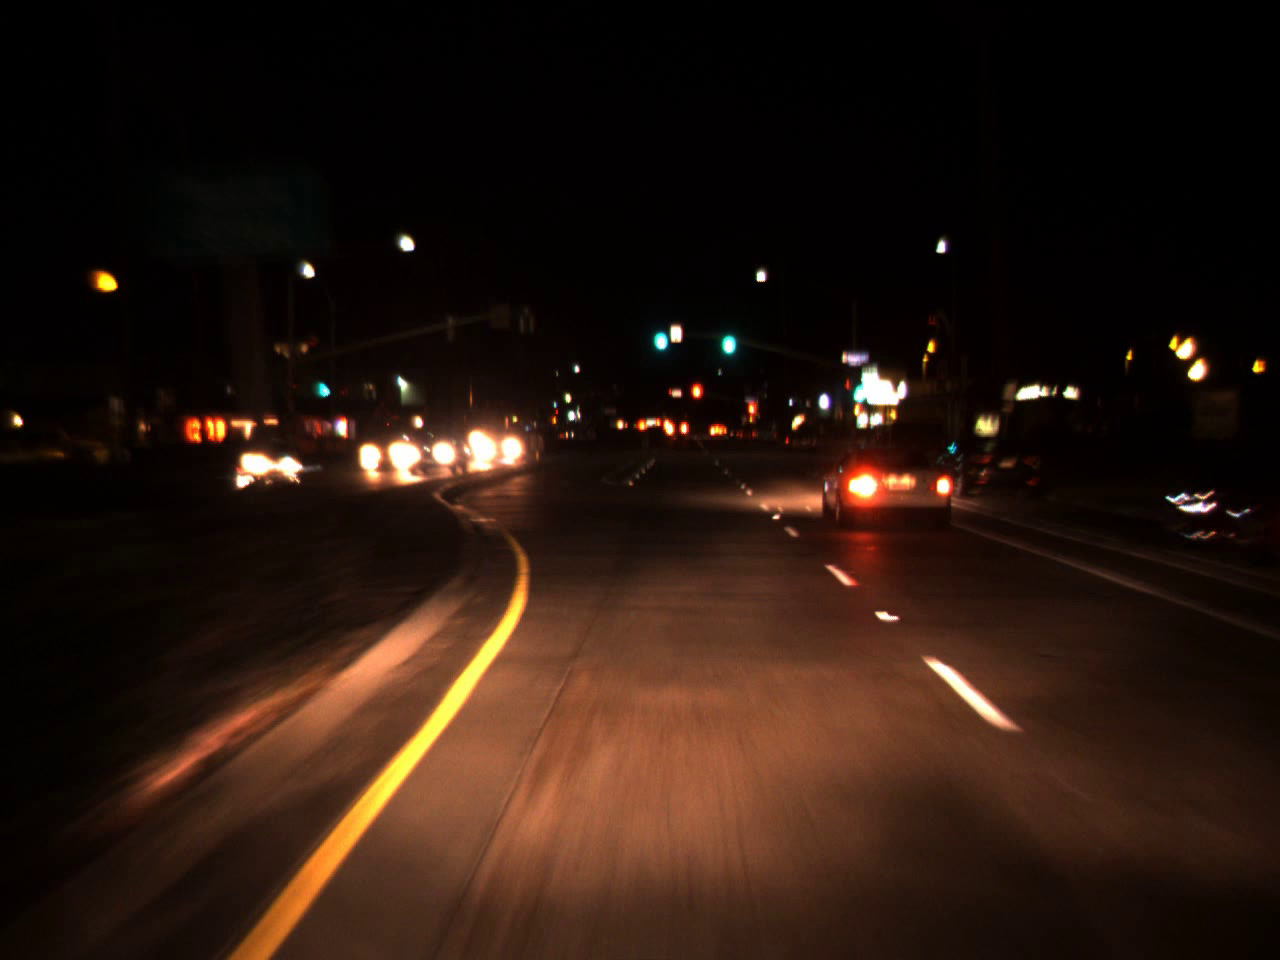go: (649, 314, 670, 353), (717, 316, 738, 355), (847, 372, 863, 408), (317, 366, 327, 402)
stop: (689, 380, 703, 417), (746, 399, 758, 431)
